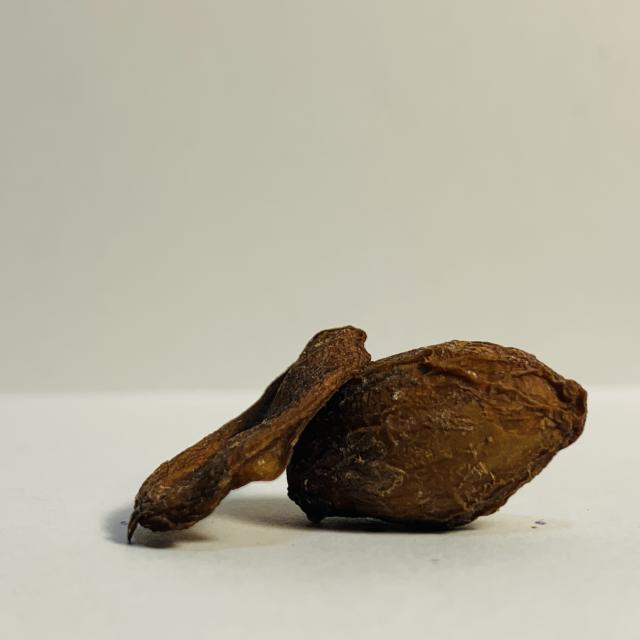Agglomerated_cocoabeans: (42, 311, 626, 564)
